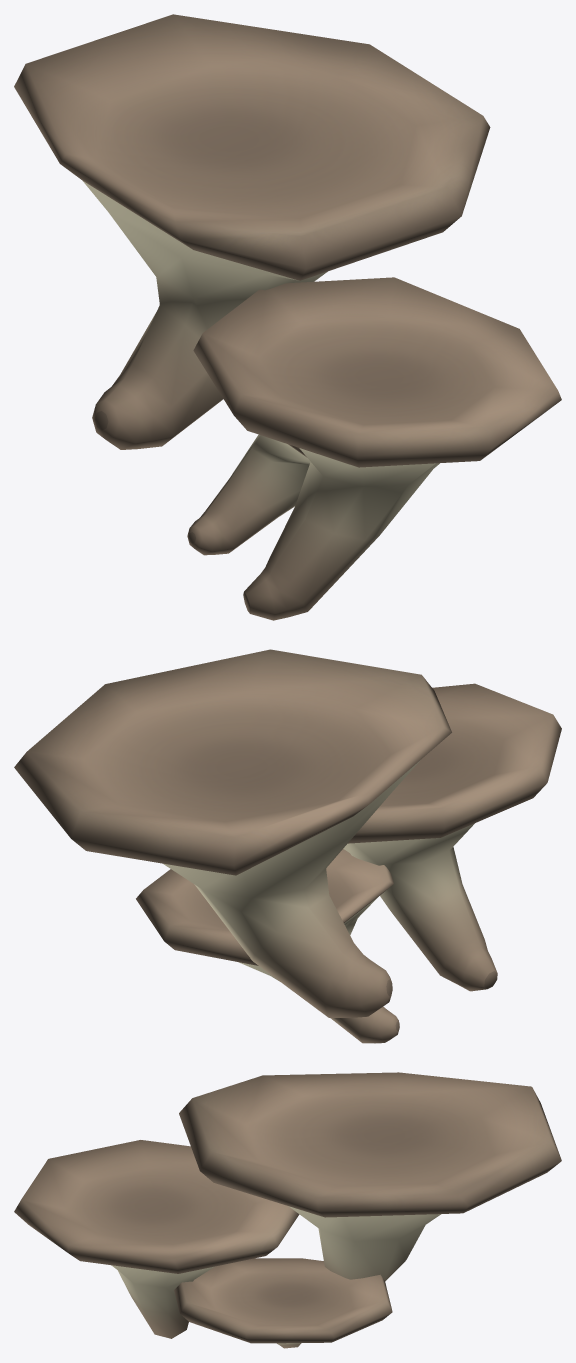
Rendered from OysterMushroom.fbx.
3 renders of one model, top to bottom at view 1: azimuth 30°, elevation 25°; view 2: azimuth 150°, elevation 25°; view 3: azimuth 270°, elevation 25°, orthographic. The views are drawn at different scales.
Parts seen in each view (by area): view 1: SM_Oyster; view 2: SM_Oyster; view 3: SM_Oyster.
Boxes of the visible parts, x1=… form: SM_Oyster: x1=14, y1=14, x2=561, y2=620; SM_Oyster: x1=14, y1=649, x2=561, y2=1043; SM_Oyster: x1=14, y1=1072, x2=561, y2=1348.
Bounding box in the file's own units: 163 × 82.98 × 91.64.
